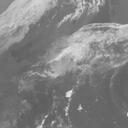cyclone: (47, 33, 100, 81)
